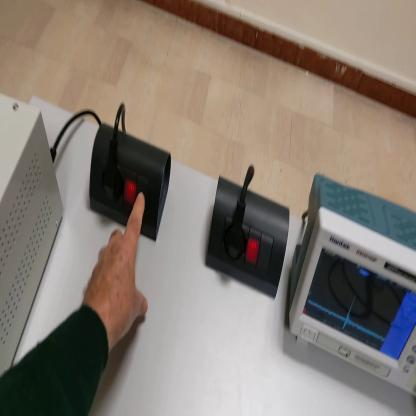hand: (83, 188, 151, 348)
oscilloscope: (290, 162, 416, 400)
power supply: (1, 96, 69, 378)
socket: (206, 179, 290, 299), (90, 128, 172, 248)
